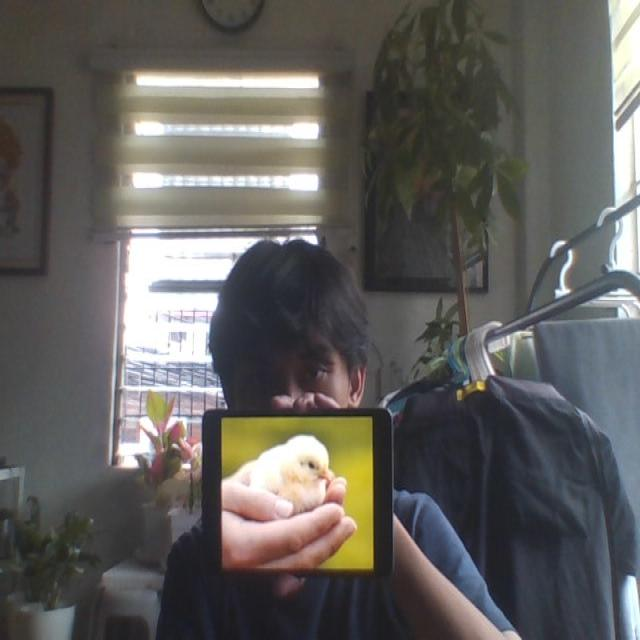Healthy: (248, 434, 336, 513)
